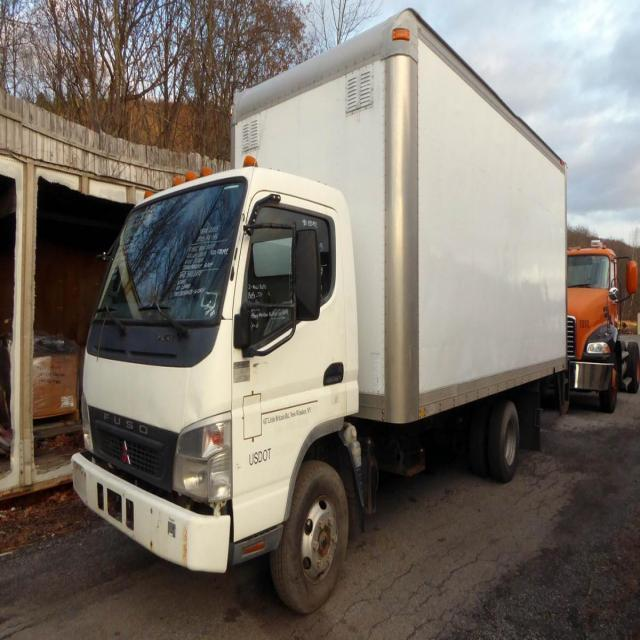truck: (65, 16, 572, 614)
